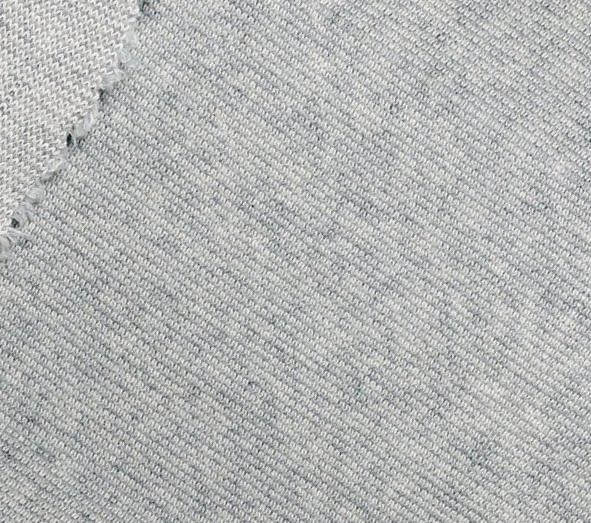slub: (3, 0, 166, 262)
